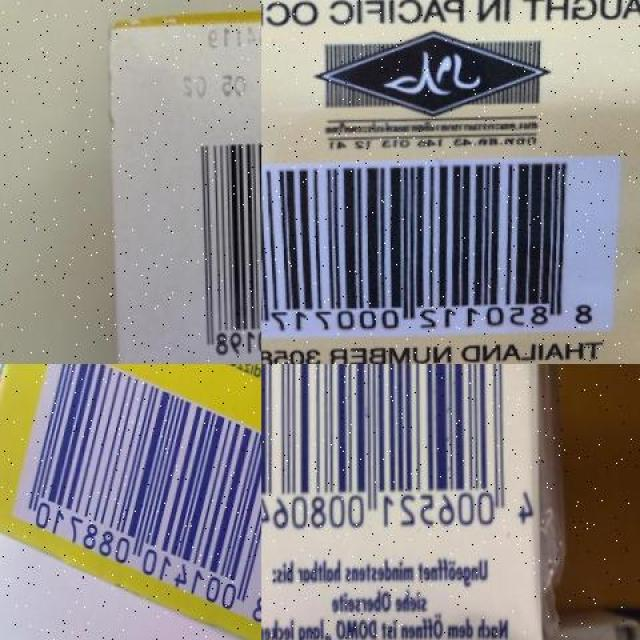Barcode: (5, 364, 262, 640), (262, 153, 610, 339), (261, 364, 531, 545), (175, 119, 261, 364)
